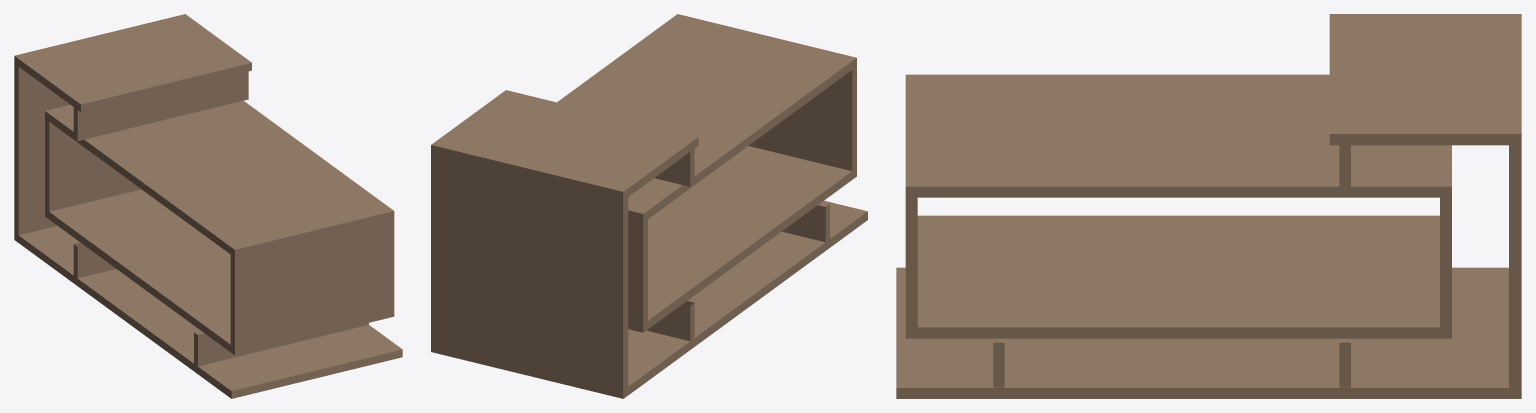
File: table.gltf
3 views of the same model, side by side, from view 1: azimuth 30°, elevation 25°; view 2: azimuth 150°, elevation 25°; view 3: azimuth 270°, elevation 25° (orthographic). The views are drawn at different scales.
Parts seen in each view (by area): view 1: table_0; view 2: table_0; view 3: table_0.
Boxes of the visible parts, x1,y1,x2,y2 form: table_0: (14, 14, 402, 398); table_0: (431, 14, 867, 398); table_0: (896, 14, 1521, 398).
Size of the model in its own units: 3.6 by 3.7 by 7.91.
